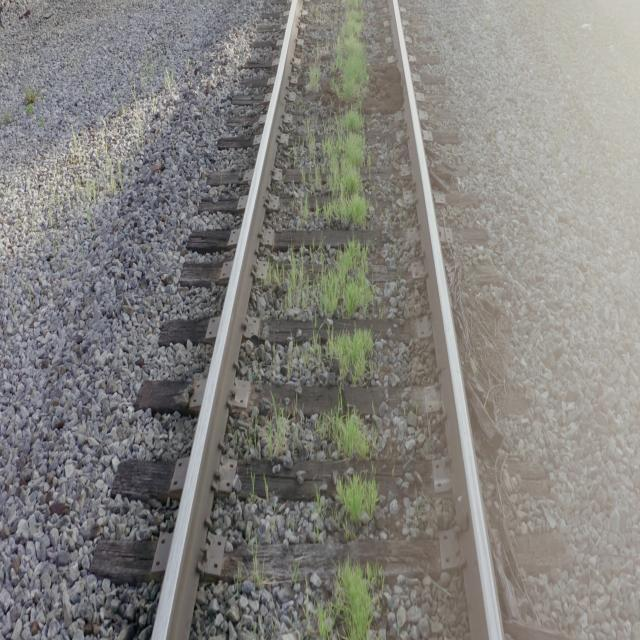Plant: (296, 0, 370, 229), (270, 240, 374, 320), (314, 562, 380, 640), (312, 407, 374, 462), (325, 329, 374, 384), (334, 473, 379, 531), (268, 407, 305, 460), (308, 58, 320, 91)
